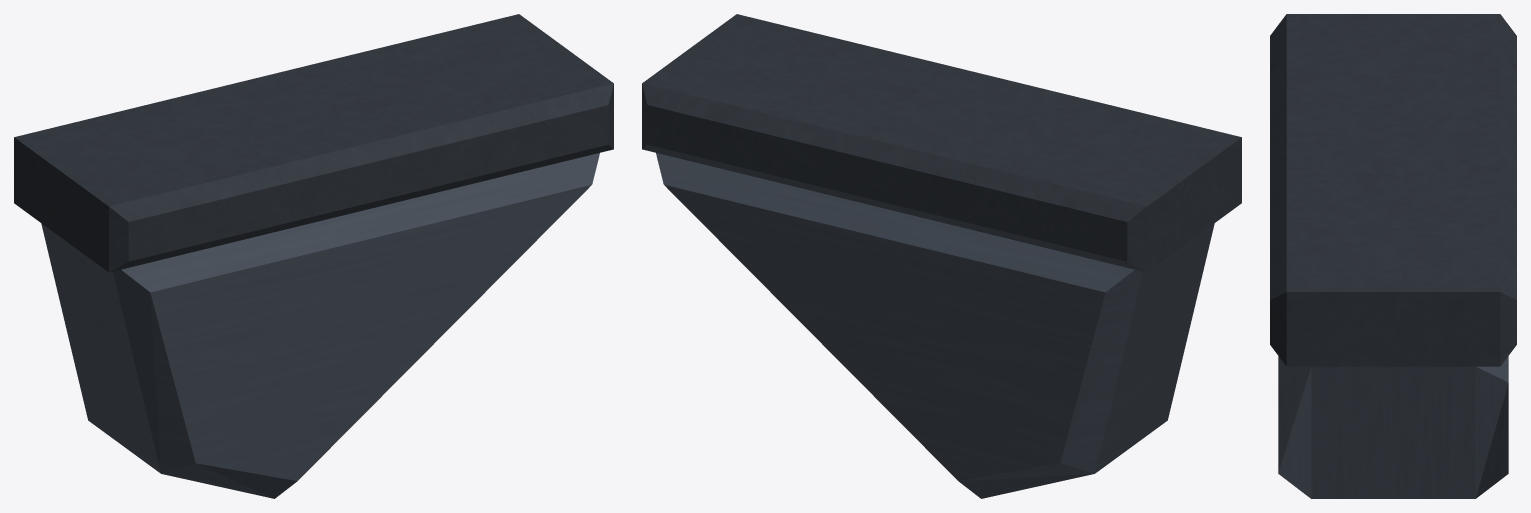
File: grip_angled_v2.glb
3 views of the same model, side by side, from view 1: azimuth 30°, elevation 25°; view 2: azimuth 150°, elevation 25°; view 3: azimuth 270°, elevation 25° (orthographic). The views are drawn at different scales.
Parts seen in each view (by area): view 1: grip_angled_mesh; view 2: grip_angled_mesh; view 3: grip_angled_mesh.
Boxes of the visible parts, bbox=[...] form: grip_angled_mesh: bbox=[14, 14, 613, 498]; grip_angled_mesh: bbox=[642, 14, 1241, 498]; grip_angled_mesh: bbox=[1270, 14, 1516, 498].
Bounding box in the file's own units: 0.08 × 0.052 × 0.03.
2 materials, 2 textured.
